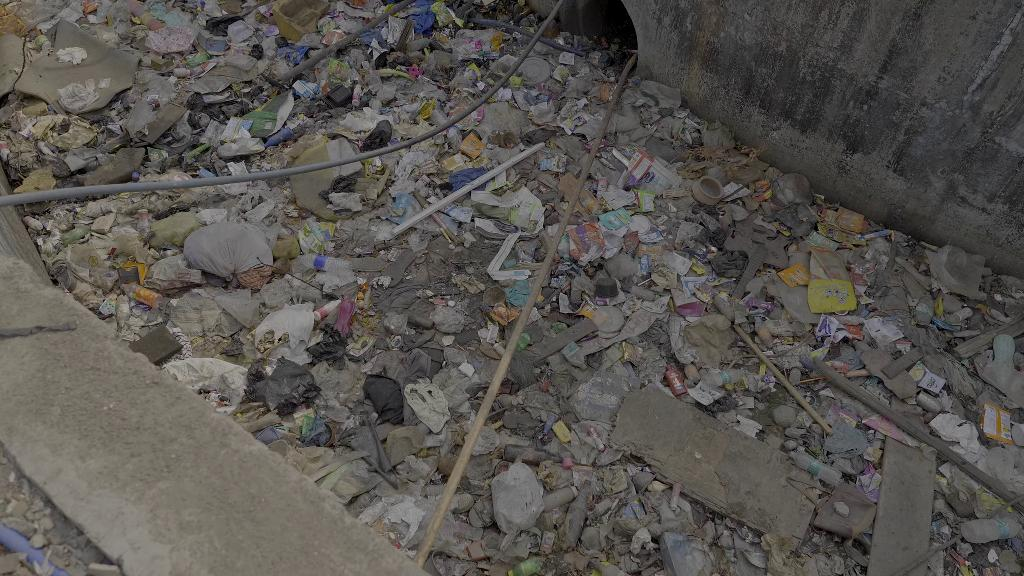garbage: (183, 212, 274, 286), (236, 361, 330, 417), (369, 372, 451, 430), (927, 240, 998, 303), (163, 362, 256, 410), (488, 466, 543, 538), (23, 112, 104, 159), (251, 301, 317, 350), (785, 443, 843, 490), (422, 298, 479, 343), (449, 24, 505, 68), (808, 270, 856, 316), (819, 199, 870, 242), (612, 147, 660, 188), (141, 22, 203, 52), (962, 515, 1023, 545), (209, 132, 270, 159), (291, 252, 356, 276), (981, 400, 1014, 446), (506, 196, 548, 231), (361, 117, 392, 161), (119, 281, 165, 310), (314, 174, 361, 202), (426, 2, 469, 28), (773, 260, 812, 288), (661, 362, 690, 399), (502, 554, 548, 576), (698, 369, 745, 390), (629, 522, 653, 559), (222, 115, 254, 142), (598, 206, 634, 230), (285, 78, 323, 100), (459, 131, 486, 160), (311, 296, 342, 321), (263, 124, 296, 147), (490, 301, 520, 326), (629, 188, 657, 214), (754, 322, 779, 351), (539, 154, 570, 173), (364, 38, 387, 62), (321, 27, 346, 46), (350, 83, 369, 107), (246, 41, 266, 62), (638, 251, 652, 278), (274, 35, 290, 50)
